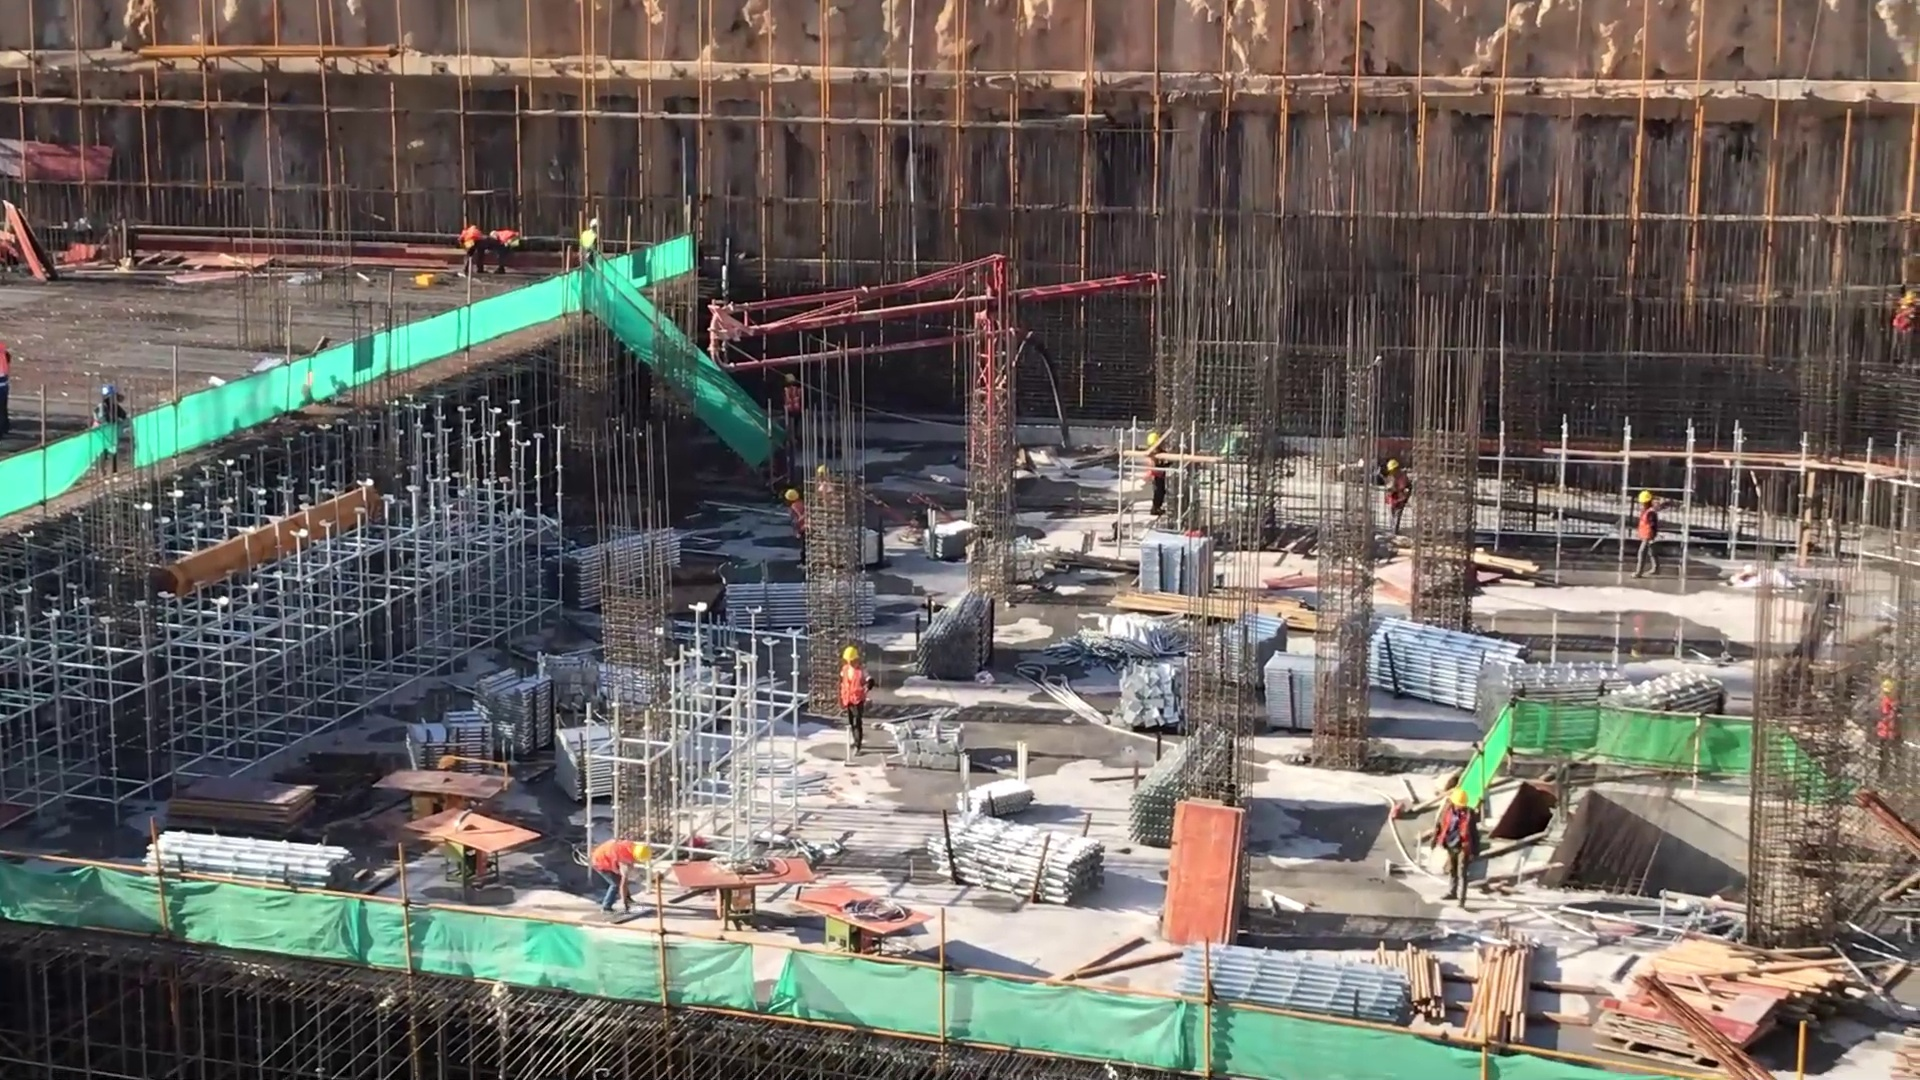board: (1591, 972, 1798, 1049), (1160, 788, 1254, 947), (169, 778, 328, 838)
brick: (1120, 651, 1191, 736)
cutter: (667, 838, 811, 934), (804, 881, 941, 977), (407, 805, 536, 899), (369, 767, 508, 837)
helmet: (1444, 790, 1472, 812), (1146, 424, 1169, 452), (96, 382, 123, 402), (841, 642, 862, 664), (635, 840, 651, 866), (783, 369, 799, 385), (783, 488, 801, 502), (1638, 491, 1654, 505), (589, 216, 603, 231), (1386, 459, 1401, 472)
person: (1434, 784, 1478, 912), (581, 829, 651, 907), (88, 384, 131, 485), (836, 647, 871, 759), (1627, 486, 1663, 584), (483, 217, 525, 284), (1381, 454, 1410, 548), (1139, 432, 1171, 519), (781, 488, 812, 566), (779, 371, 803, 446), (456, 220, 482, 285), (576, 218, 606, 268)
scaffold: (1178, 938, 1422, 1028), (927, 802, 1114, 915), (391, 662, 563, 784), (1373, 621, 1532, 715), (1473, 662, 1630, 754), (1597, 670, 1719, 785), (134, 841, 351, 896), (549, 523, 687, 608), (719, 582, 888, 630), (915, 590, 992, 683), (1217, 613, 1286, 686)
vest: (1436, 808, 1476, 860), (591, 839, 635, 874), (840, 663, 869, 710), (780, 382, 804, 416), (787, 503, 808, 533), (1638, 508, 1655, 541), (493, 229, 519, 246), (581, 228, 598, 252)
